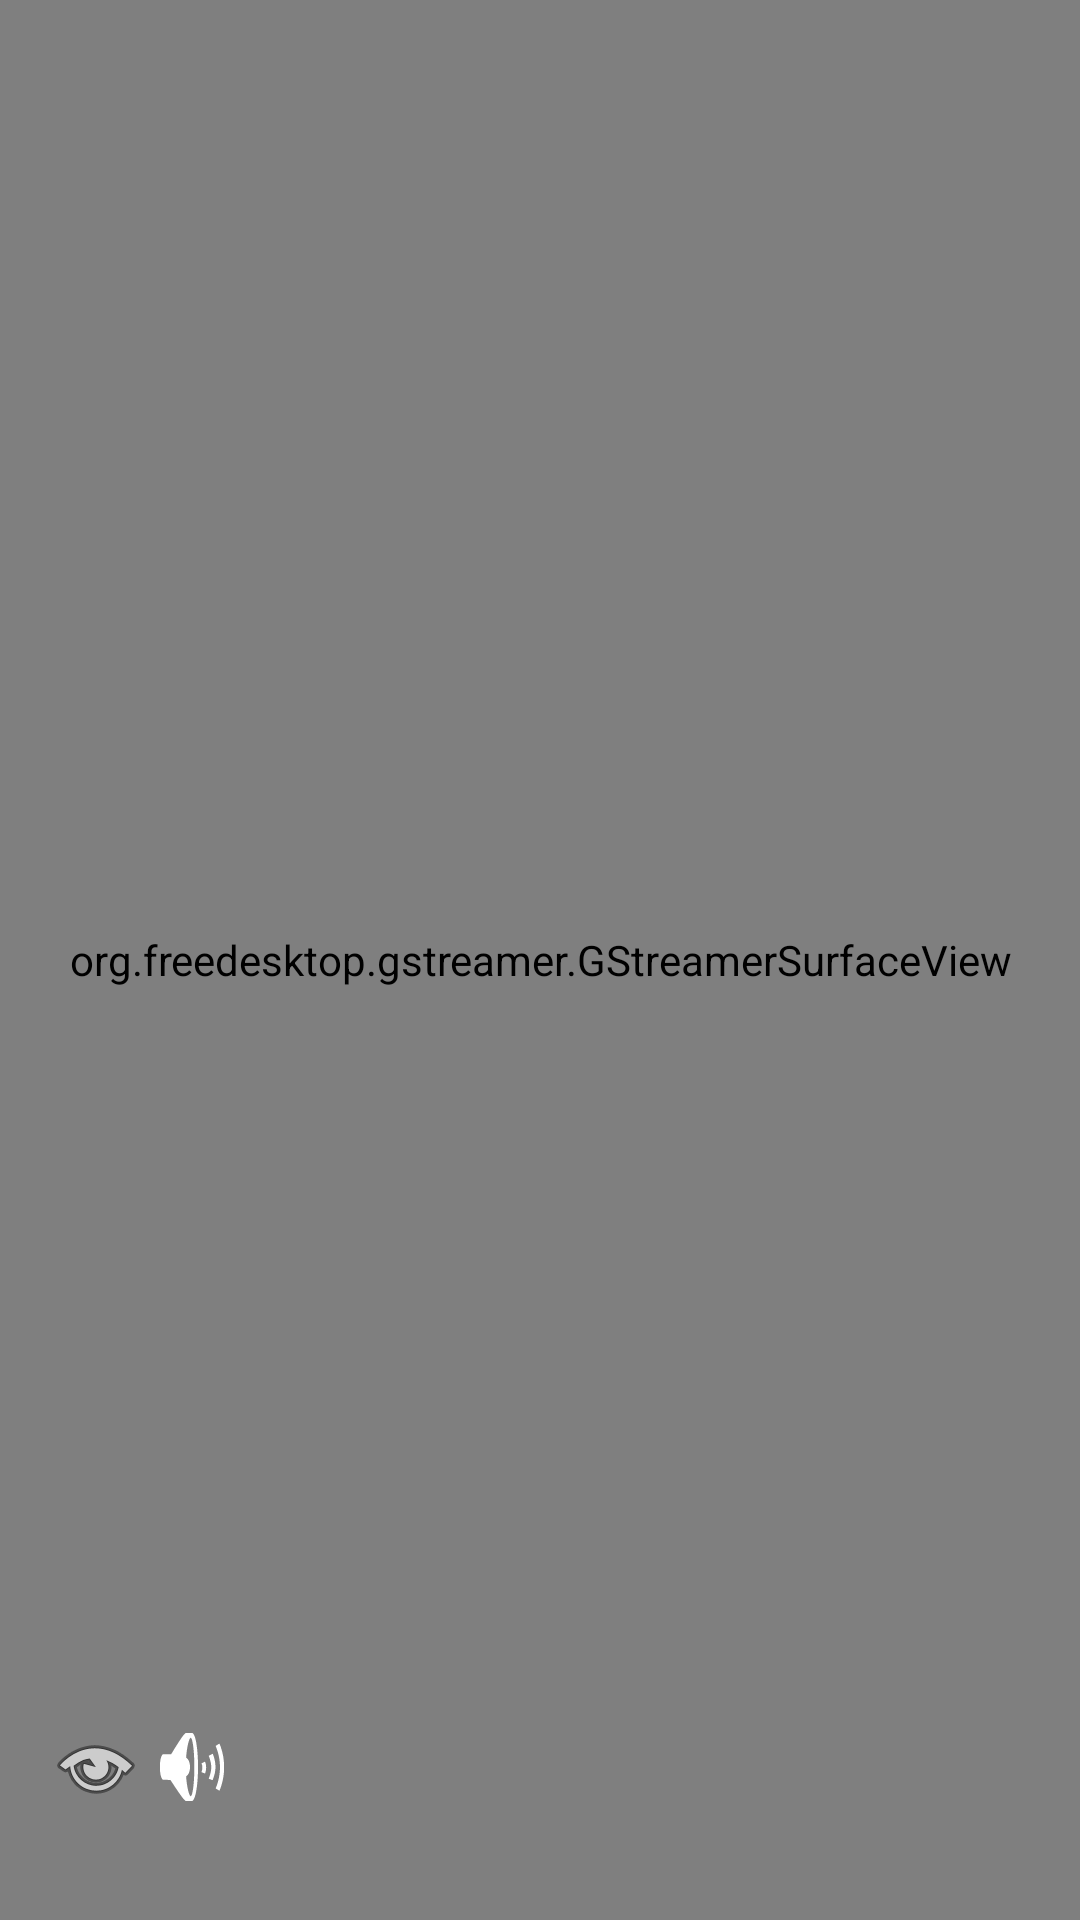

Icons on this 1080×1920 Android screen, each with the point to tap as point (x, y):
lock silent mode off: point (192, 1767)
